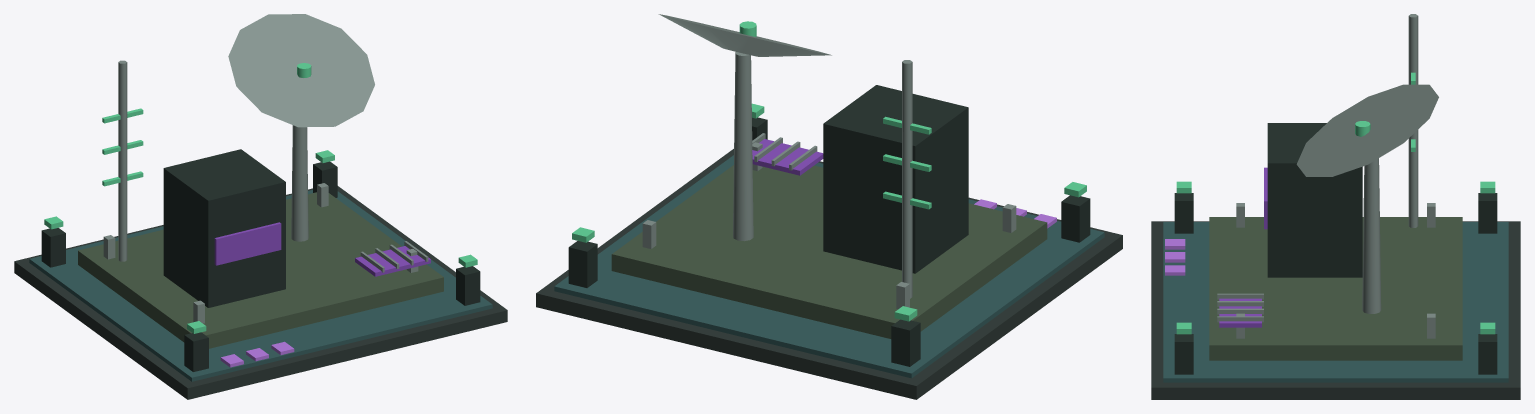
Rendered from signal_l03.glb.
The picture shows the model from 3 angles, left to right: view 1: azimuth 30°, elevation 25°; view 2: azimuth 150°, elevation 25°; view 3: azimuth 270°, elevation 25°; orthographic projection. The views are drawn at different scales.
Parts seen in each view (by area): view 1: signal_l03; view 2: signal_l03; view 3: signal_l03.
Boxes of the visible parts, left/top/right/bottom form: signal_l03: left=14, top=14, right=507, bottom=399; signal_l03: left=536, top=14, right=1122, bottom=399; signal_l03: left=1151, top=14, right=1520, bottom=399.
Bounding box in the file's own units: 6.6 × 4.61 × 6.2.
